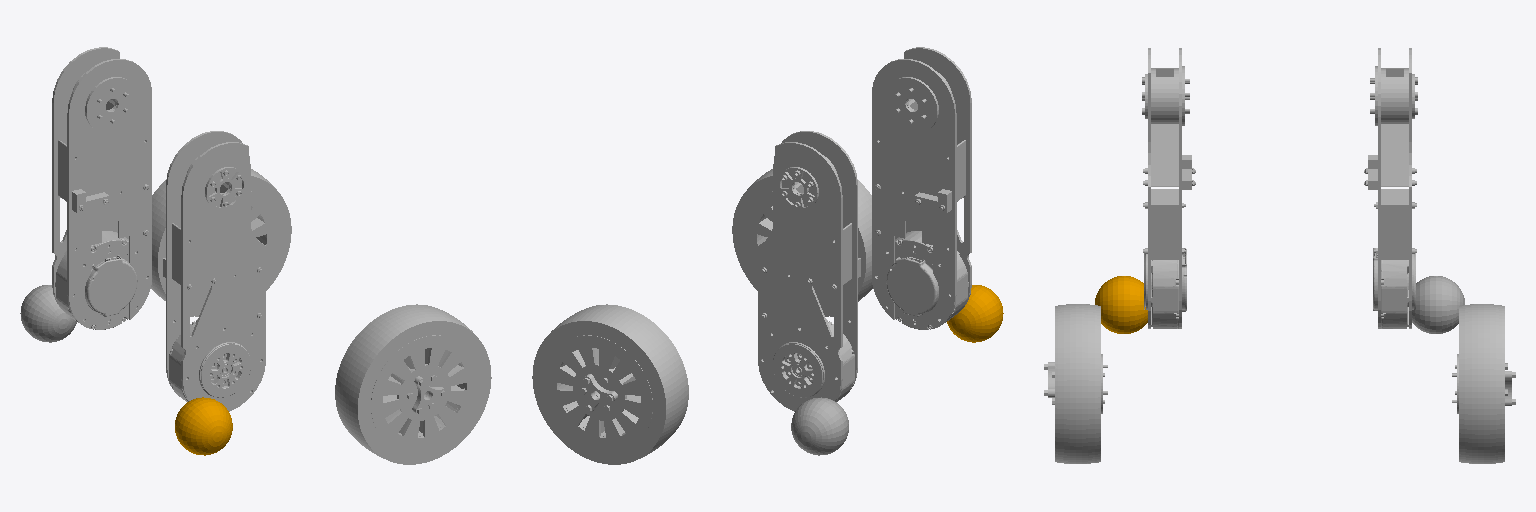
The robot description file, URDF, robot "wbr_v2":
<?xml version="1.0" ?>
<!--
轮腿机器人 URDF 描述 (wbr_v2.urdf)
[Ubuntu/zcode]  2026-10-24  P7 四轮模式与模式切换线专用（wbr_v1 一字节未动，两轮训练线继续读 v1）
方案与技术依据：Shared/WBR/docs/01-技术细节/WBR_四轮模式与模式切换.md §3.2

相对 wbr_v1 的改动（七处）：
1. robot name 改 wbr_v2（与本目录 _archive/ 的历史同名文件撞名，对照见 2026-10-24 进展日志）。
2. 左右小腿 collision 由 STL 网格改为盒体（visual 保留原 STL，外形不变）：
   盒体 x[-0.058,+0.228] y[-0.048,+0.050] z[-0.014,+0.043] m（小腿 link 系）。
   依据：从动球触地点在小腿系 y≈+0.0790（球心 0.0500 + 半径 0.0290），盒顶 y=+0.050，间隙 29.0 mm；
   从动球恒为小腿侧唯一定义触地点（盒与球为父子直连，碰撞引擎自动跳过）。
3. 新增左右膝关节从动轮（球形单轴被动轮，实测于第三方 CAD 网格）：
   球半径 0.029 m、轮宽（视觉参考）0.0337 m、质量 0.05 kg（区间 [0.04,0.07] 中值）、
   实心球惯量 2/5·m·r² = 1.682e-05 kg·m²；
   关节原点＝小腿 link 系球心（＝实测轮轴心）：左 (-0.02939, +0.05000, +0.01983)、
   右 (-0.02939, -0.05000, +0.01983)；轴 (0,0,1) 与驱动轮轴平行；
   revolute 无位置限位（沿驱动轮先例）、被动（effort 1.0）、阻尼 0.01。
   行为：前后＝完美滚动（关节），侧向＝低 μ 滑移（μ 在 env 侧逐 shape 设定，URDF 无此语义）。
4. 新增关节追加在文件末尾：dof 顺序 0~5 与 wbr_v1 完全一致，动作仍 6 维，两轮线代码零改动兼容。
5. 双自由度牛眼轮方案（2 串联转轴）经数值验证否决（持续滚动致轴翻转万向锁），
   三轴万向架变体（真牛眼轮）以注释保留在文件末尾备查。
6. 其余（base/thigh/驱动轮的惯量与碰撞、全部既有关节限位、网格路径）与 wbr_v1 逐字相同。
7. 免除"膝关节从动球↔同侧大腿"的碰撞（文件末尾 <contact><exclude>，左右各一条）：
   球半径 29mm 且球心在膝端，膝接近伸直（knee∈[-39°,-6°]）时球会擦到大腿碰撞盒（约 5mm 重叠）；
   球在 shank 下、大腿是 shank 父级属隔代关系，不被父子自动过滤，故显式排除。
   四轮工作姿态（knee≈-130°）本有 +31mm 余量，此项只兜住膝伸直段。

修订记录：
· 2026-10-24  膝关节从动轮球半径 0.0228 → 0.029 m（外径 45.6→58 mm），球心对齐真实轮轴心。
  - 原 0.0228 为 RANSAC 对滚子多面体轮廓的拟合（rms 1.86 mm，偏小）；改用外缘点（每 5° 取最外点，
    72 点）最小二乘圆拟合，得真实轴心 (-29.39, 50.00, 19.83) mm、外缘半径 29.0 mm（min 28.94 / max 29.07）。
    旧球心 (-29.20, 51.00) 向外侧(+y)偏 1.00 mm、x 偏 0.19 mm；旧半径取 0.030 亦偏大 1 mm。
  - 同步：球 visual/collision 半径、实心球惯量 1.04e-05→1.682e-05、头注释间隙 23.8→29.0 mm、注释内万向架变体。
  - 影响：四轮标定俯仰 −48.27°（平台标定 −48.0°，差 0.27°）、四点触地差 0.000 mm、轮距 209.1 mm（左右对称）；
    两轮模式（wbr_v1 训练线）不受影响。
-->

<robot name="wbr_v2">
  <link name="base_link">
    <inertial>
      <origin rpy="0 0 0" xyz="4.4472E-05 0.0001156 0.010416"/>
      <mass value="2.5418"/>
      <inertia ixx="0.015752" ixy="-0.00040242" ixz="9.948E-05" iyy="0.010651" iyz="-0.00036894" izz="0.013679"/>
    </inertial>
    <visual>
      <origin rpy="0 0 0" xyz="0 0 0"/>
      <geometry>
        <mesh filename="../meshes_v1/base_link.STL"/>
      </geometry>
      <material name="">
        <color rgba="0.75294 0.75294 0.75294 1"/>
      </material>
    </visual>
    <collision>
      <origin rpy="0 0 0" xyz="0 0 0"/>
      <geometry>
        <!-- 替换以下原来的mesh，看看能不能提升仿真的速度 -->
        <!-- <mesh filename="../meshes_v1/base_link.STL" /> -->
        <box size="0.18 0.16 0.10"/>
      </geometry>
    </collision>
  </link>

  <link name="left_thigh_link">
    <inertial>
      <origin rpy="0 0 0" xyz="0.15659 0.00032005 0.02025"/>
      <mass value="0.80815"/>
      <inertia ixx="0.00058921" ixy="-6.148E-05" ixz="6.077E-05" iyy="0.0047671" iyz="1.4E-07" izz="0.0051528"/>
    </inertial>
    <visual>
      <origin rpy="0 0 0" xyz="0 0 0"/>
      <geometry>
        <mesh filename="../meshes_v1/left_thigh_link.STL"/>
      </geometry>
      <material name="">
        <color rgba="0.75294 0.75294 0.75294 1"/>
      </material>
    </visual>
    <collision>
      <origin rpy="0 0 0" xyz="0.1 0 0.02"/>
      <geometry>
        <box size="0.2 0.08 0.04"/>
        <!-- <mesh filename="../meshes_v1/left_thigh_link.STL" /> -->
      </geometry>
    </collision>
  </link>

  <link name="left_shank_link">
    <inertial>
      <origin rpy="0 0 0" xyz="0.12156 0.0048719 0.01996"/>
      <mass value="0.93138"/>
      <inertia ixx="0.00092062" ixy="-0.00090165" ixz="2.7E-05" iyy="0.0071235" iyz="7.25E-06" izz="0.0078024"/>
    </inertial>
    <visual>
      <origin rpy="0 0 0" xyz="0 0 0"/>
      <geometry>
        <mesh filename="../meshes_v1/left_shank_link.STL"/>
      </geometry>
      <material name="">
        <color rgba="0.75294 0.75294 0.75294 1"/>
      </material>
    </visual>
    <!-- wbr_v2：碰撞体由 STL 网格换成盒体（从动轮球是小腿侧唯一定义触地点，见文件头说明 2） -->
    <collision>
      <origin rpy="0 0 0" xyz="0.085 0.001 0.0145"/>
      <geometry>
        <box size="0.286 0.098 0.057"/>
        <!-- <mesh filename="../meshes_v1/left_shank_link.STL" /> -->
      </geometry>
    </collision>
  </link>

  <link name="right_thigh_link">
    <inertial>
      <origin rpy="3.141590 0 0" xyz="0.15659 0.00019029 0.02025"/>
      <mass value="0.80815"/>
      <inertia ixx="0.00058927" ixy="-6.416E-05" ixz="-6.077E-05" iyy="0.0047671" iyz="-1.5E-06" izz="0.0051529"/>
    </inertial>
    <visual>
      <origin rpy="3.141590 0 0" xyz="0 0 0"/>
      <geometry>
        <mesh filename="../meshes_v1/right_thigh_link.STL"/>
      </geometry>
      <material name="">
        <color rgba="0.75294 0.75294 0.75294 1"/>
      </material>
    </visual>
    <collision>
      <origin rpy="0 0 0" xyz="0.1 0 0.02"/>
      <geometry>
        <box size="0.2 0.08 0.04"/>
        <!-- <mesh filename="../meshes_v1/left_thigh_link.STL" /> -->
      </geometry>
      <!-- <origin
        xyz="0 0 0"
        rpy="0 0 0" />
      <geometry>
        <mesh
          filename="../meshes_v1/right_thigh_link.STL" />
      </geometry> -->
    </collision>
  </link>

  <link name="right_shank_link">
    <inertial>
      <origin rpy="3.141590 0 0" xyz="0.12114 0.0051863 0.020146"/>
      <mass value="0.92691"/>
      <inertia ixx="0.00090882" ixy="-0.00088222" ixz="-3.749E-05" iyy="0.0070874" iyz="-1E-06" izz="0.0077607"/>
    </inertial>
    <visual>
      <origin rpy="3.141590 0 0" xyz="0 0 0"/>
      <geometry>
        <mesh filename="../meshes_v1/right_shank_link.STL"/>
      </geometry>
      <material name="">
        <color rgba="0.75294 0.75294 0.75294 1"/>
      </material>
    </visual>
    <!-- wbr_v2：碰撞体由 STL 网格换成盒体（经 rpy=pi 放置后覆盖区与左腿镜像一致，见文件头说明 2） -->
    <collision>
      <origin rpy="3.141590 0 0" xyz="0.085 0.001 0.0145"/>
      <geometry>
        <box size="0.286 0.098 0.057"/>
        <!-- <mesh filename="../meshes_v1/right_shank_link.STL" /> -->
      </geometry>
    </collision>
  </link>

  <link name="left_wheel_link">
    <inertial>
      <origin rpy="0 0 0" xyz="0 0 0.025381"/>
      <mass value="0.55336"/>
      <inertia ixx="0.0010902" ixy="0" ixz="0" iyy="0.0010902" iyz="0" izz="0.0019745"/>
    </inertial>
    <visual>
      <origin rpy="0 0 0" xyz="0 0 0"/>
      <geometry>
        <mesh filename="../meshes_v1/left_wheel_link.STL"/>
      </geometry>
      <material name="">
        <color rgba="0.75294 0.75294 0.75294 1"/>
      </material>
    </visual>
    <collision>
      <origin rpy="0 0 0" xyz="0 0 0.027"/>
      <geometry>
        <cylinder length="0.048" radius="0.08"/>
        <!-- <mesh
          filename="../meshes_v1/left_wheel_link.STL" /> -->
      </geometry>
    </collision>
  </link>

  <link name="right_wheel_link">
    <inertial>
      <origin rpy="3.141590 0 0" xyz="0 0 0.025381"/>
      <mass value="0.55336"/>
      <inertia ixx="0.0010902" ixy="0" ixz="0" iyy="0.0010902" iyz="0" izz="0.0019745"/>
    </inertial>
    <visual>
      <origin rpy="3.141590 0 0" xyz="0 0 0"/>
      <geometry>
        <mesh filename="../meshes_v1/right_wheel_link.STL"/>
      </geometry>
      <material name="">
        <color rgba="0.75294 0.75294 0.75294 1"/>
      </material>
    </visual>
    <collision>
      <origin rpy="0 0 0" xyz="0 0 0.027"/>
      <geometry>
        <cylinder length="0.048" radius="0.08"/>
        <!-- <mesh
          filename="../meshes_v1/right_thigh_link.STL" /> -->
      </geometry>
    </collision>
  </link>

  <!-- wbr_v2 新增：左膝关节从动轮（球形单轴被动轮，参数实测见文件头说明 3） -->
  <link name="left_knee_caster">
    <inertial>
      <origin rpy="0 0 0" xyz="0 0 0"/>
      <mass value="0.05"/>
      <inertia ixx="1.682e-05" ixy="0" ixz="0" iyy="1.682e-05" iyz="0" izz="1.682e-05"/>
    </inertial>
    <visual>
      <origin rpy="0 0 0" xyz="0 0 0"/>
      <geometry>
        <sphere radius="0.029"/>
      </geometry>
    </visual>
    <collision>
      <origin rpy="0 0 0" xyz="0 0 0"/>
      <geometry>
        <sphere radius="0.029"/>
      </geometry>
    </collision>
  </link>

  <!-- wbr_v2 新增：右膝关节从动轮（与左侧镜像：小腿 link 系球心 y 取负，见文件头说明 3） -->
  <link name="right_knee_caster">
    <inertial>
      <origin rpy="0 0 0" xyz="0 0 0"/>
      <mass value="0.05"/>
      <inertia ixx="1.682e-05" ixy="0" ixz="0" iyy="1.682e-05" iyz="0" izz="1.682e-05"/>
    </inertial>
    <visual>
      <origin rpy="0 0 0" xyz="0 0 0"/>
      <geometry>
        <sphere radius="0.029"/>
      </geometry>
    </visual>
    <collision>
      <origin rpy="0 0 0" xyz="0 0 0"/>
      <geometry>
        <sphere radius="0.029"/>
      </geometry>
    </collision>
  </link>

  <!-- 调用机器人连杆 -->
  <joint name="left_hip_joint" type="revolute">
    <origin rpy="-1.570796327 1.570796327 0" xyz="0 0.0936 0"/>
    <parent link="base_link"/>
    <child link="left_thigh_link"/>
    <axis xyz="0 0 1"/>
    <limit effort="23.7" lower="-1.5708" upper="1.5708" velocity="30.0"/>
  </joint>
  <joint name="left_knee_joint" type="revolute">
    <origin rpy="0 0 0" xyz="0.2 0 0.0403"/>
    <parent link="left_thigh_link"/>
    <child link="left_shank_link"/>
    <axis xyz="0 0 1"/>
    <limit effort="23.7" lower="-2.7053" upper="-0.1" velocity="30.0"/>
  </joint>
  <joint name="left_wheel_joint" type="revolute">
    <origin rpy="0 0 0" xyz="0.18 0 0.0403"/>
    <parent link="left_shank_link"/>
    <child link="left_wheel_link"/>
    <limit effort="23.7" velocity="30.0"/>
    <axis xyz="0 0 1"/>
  </joint>
  <joint name="right_hip_joint" type="revolute">
    <origin rpy="1.570796327 1.570796327 0" xyz="0 -0.0936 0"/>
    <parent link="base_link"/>
    <child link="right_thigh_link"/>
    <axis xyz="0 0 1"/>
    <limit effort="23.7" lower="-1.5708" upper="1.5708" velocity="30.0"/>
  </joint>
  <joint name="right_knee_joint" type="revolute">
    <origin rpy="0 0 0" xyz="0.2 0 0.0403"/>
    <parent link="right_thigh_link"/>
    <child link="right_shank_link"/>
    <axis xyz="0 0 1"/>
    <limit effort="23.7" lower="0.1" upper="2.7053" velocity="30.0"/>
  </joint>
  <joint name="right_wheel_joint" type="revolute">
    <origin rpy="0 0 0" xyz="0.18 0 0.0403"/>
    <parent link="right_shank_link"/>
    <child link="right_wheel_link"/>
    <limit effort="23.7" velocity="30.0"/>
    <axis xyz="0 0 1"/>
  </joint>

  <!-- wbr_v2 新增关节：追加在末尾，dof 0~5 与 wbr_v1 完全一致（见文件头说明 4） -->
  <joint name="left_knee_caster_joint" type="revolute">
    <origin rpy="0 0 0" xyz="-0.02939 0.05000 0.01983"/>
    <parent link="left_shank_link"/>
    <child link="left_knee_caster"/>
    <axis xyz="0 0 1"/>
    <limit effort="1.0" velocity="30.0"/>
    <dynamics damping="0.01" friction="0.0"/>
  </joint>
  <joint name="right_knee_caster_joint" type="revolute">
    <origin rpy="0 0 0" xyz="-0.02939 -0.05000 0.01983"/>
    <parent link="right_shank_link"/>
    <child link="right_knee_caster"/>
    <axis xyz="0 0 1"/>
    <limit effort="1.0" velocity="30.0"/>
    <dynamics damping="0.01" friction="0.0"/>
  </joint>

  <!--
  wbr_v2 备选变体（注释保留，默认不启用）：三轴万向架牛眼轮（左腿示例，右侧镜像同理）
  启用方法：删去本注释与上面的 left_knee_caster_joint，改用下方三关节链。
  <joint name="left_caster_gz" type="continuous">
    <origin rpy="0 0 0" xyz="-0.02939 0.05000 0.01983"/>
    <parent link="left_shank_link"/>
    <child link="left_caster_gimbal_z"/>
    <axis xyz="0 0 1"/>
    <dynamics damping="0.01" friction="0.0"/>
  </joint>
  <link name="left_caster_gimbal_z">
    <inertial>
      <origin rpy="0 0 0" xyz="0 0 0"/>
      <mass value="0.005"/>
      <inertia ixx="1e-07" ixy="0" ixz="0" iyy="1e-07" iyz="0" izz="1e-07"/>
    </inertial>
  </link>
  <joint name="left_caster_gx" type="continuous">
    <origin rpy="0 0 0" xyz="0 0 0"/>
    <parent link="left_caster_gimbal_z"/>
    <child link="left_caster_gimbal_x"/>
    <axis xyz="1 0 0"/>
    <dynamics damping="0.01" friction="0.0"/>
  </joint>
  <link name="left_caster_gimbal_x">
    <inertial>
      <origin rpy="0 0 0" xyz="0 0 0"/>
      <mass value="0.005"/>
      <inertia ixx="1e-07" ixy="0" ixz="0" iyy="1e-07" iyz="0" izz="1e-07"/>
    </inertial>
  </link>
  <joint name="left_caster_gy" type="continuous">
    <origin rpy="0 0 0" xyz="0 0 0"/>
    <parent link="left_caster_gimbal_x"/>
    <child link="left_knee_caster_ball"/>
    <axis xyz="0 1 0"/>
    <dynamics damping="0.01" friction="0.0"/>
  </joint>
  <link name="left_knee_caster_ball">
    <inertial>
      <origin rpy="0 0 0" xyz="0 0 0"/>
      <mass value="0.05"/>
      <inertia ixx="1.682e-05" ixy="0" ixz="0" iyy="1.682e-05" iyz="0" izz="1.682e-05"/>
    </inertial>
    <collision>
      <origin rpy="0 0 0" xyz="0 0 0"/>
      <geometry><sphere radius="0.029"/></geometry>
    </collision>
  </link>
  -->

  <!-- wbr_v2：免除膝关节从动球与同侧大腿的碰撞干涉（见文件头说明 7）。
       球心在膝端、球半径 29mm，膝接近伸直时球会擦到大腿；球在 shank 下、大腿是 shank 的父级
       （隔代关系，不会被父子自动过滤），碰撞体层面约 5mm 重叠，显式排除以避免误判接触。 -->
  <contact>
    <exclude link1="left_thigh_link" link2="left_knee_caster"/>
    <exclude link1="right_thigh_link" link2="right_knee_caster"/>
  </contact>
</robot>

--- Render facts (derived) ---
The picture shows the robot from 3 angles, left to right: view 1: azimuth 30°, elevation 25°; view 2: azimuth 150°, elevation 25°; view 3: azimuth 270°, elevation 25°; orthographic projection.
Robot: wbr_v2 — 9 links, 8 joints (8 revolute); root link base_link; default pose: joints at zero except 2 at the middle of their limits (left_knee_joint = -1.4, right_knee_joint = 1.4).
Visible links, largest first — view 1: left_thigh_link, right_thigh_link, right_wheel_link, left_wheel_link, right_knee_caster, left_knee_caster; view 2: right_thigh_link, left_thigh_link, left_wheel_link, right_wheel_link, left_knee_caster, right_knee_caster; view 3: left_thigh_link, right_thigh_link, right_wheel_link, left_wheel_link, left_knee_caster, right_knee_caster.
Link boxes in pixels (left/top/right/bottom): left_thigh_link: left=52, top=47, right=151, bottom=329; right_thigh_link: left=163, top=131, right=265, bottom=411; right_wheel_link: left=335, top=304, right=491, bottom=464; left_wheel_link: left=151, top=169, right=291, bottom=316; right_knee_caster: left=175, top=397, right=232, bottom=455; left_knee_caster: left=20, top=285, right=76, bottom=342; right_thigh_link: left=872, top=47, right=971, bottom=329; left_thigh_link: left=758, top=131, right=860, bottom=411; left_wheel_link: left=532, top=304, right=688, bottom=464; right_wheel_link: left=732, top=169, right=872, bottom=316; left_knee_caster: left=791, top=397, right=848, bottom=455; right_knee_caster: left=947, top=285, right=1003, bottom=342; left_thigh_link: left=1364, top=48, right=1417, bottom=328; right_thigh_link: left=1142, top=48, right=1195, bottom=328; right_wheel_link: left=1044, top=304, right=1107, bottom=463; left_wheel_link: left=1452, top=304, right=1515, bottom=463; left_knee_caster: left=1412, top=276, right=1464, bottom=333; right_knee_caster: left=1095, top=276, right=1147, bottom=333.
Bounding box of the posed robot: 0.3228 × 0.4642 × 0.3568 m (x, y, z).
4 mesh visuals loaded from 7 distinct referenced files (4 binary STL); not drawn: 3 (reference not matched to a file when rendering).
